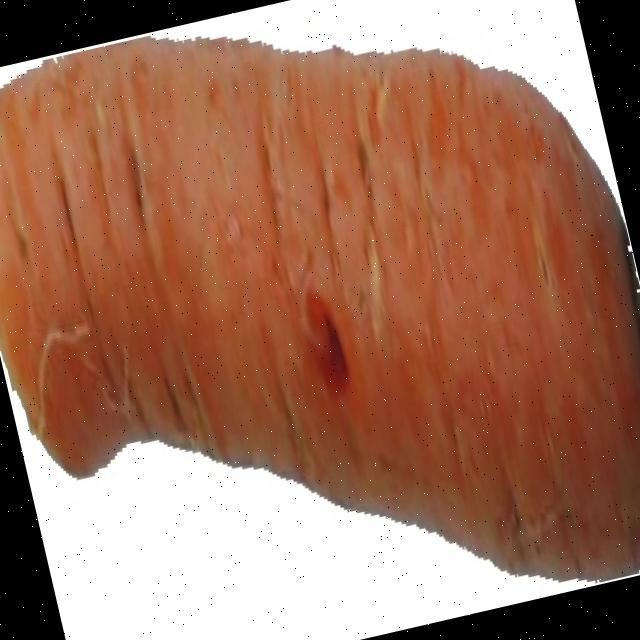carrot: (0, 41, 640, 580)
